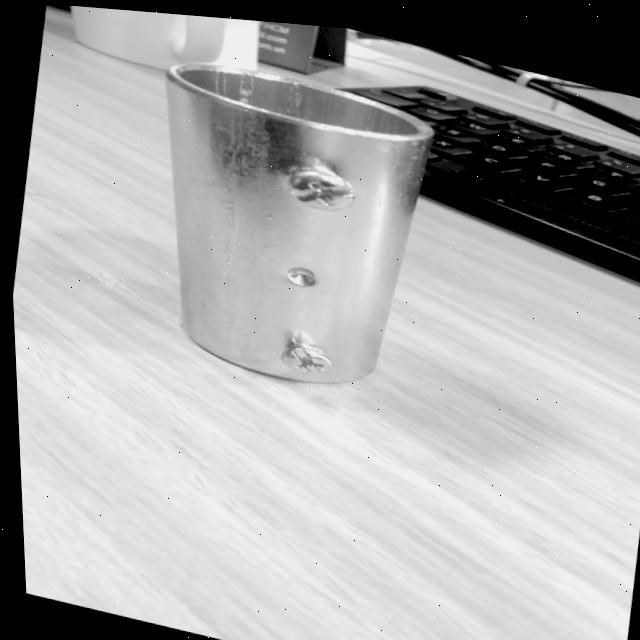Co_Lon: (102, 49, 439, 400)
